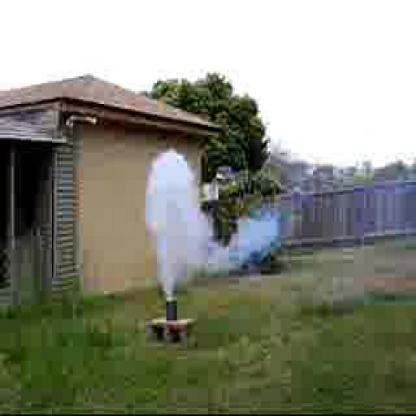Smoke: (150, 153, 199, 286)
